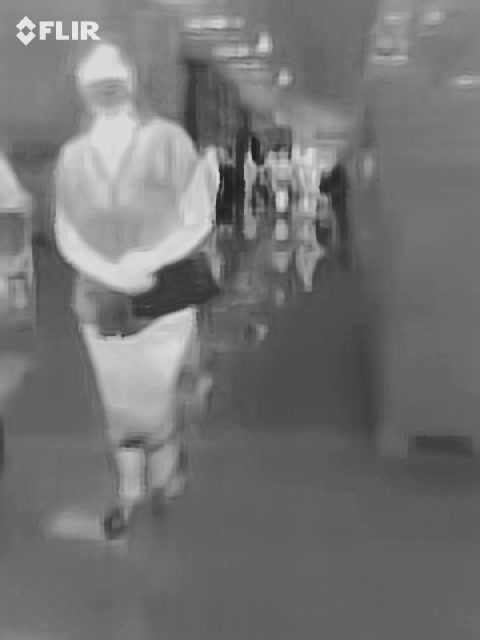head: (75, 42, 139, 118)
